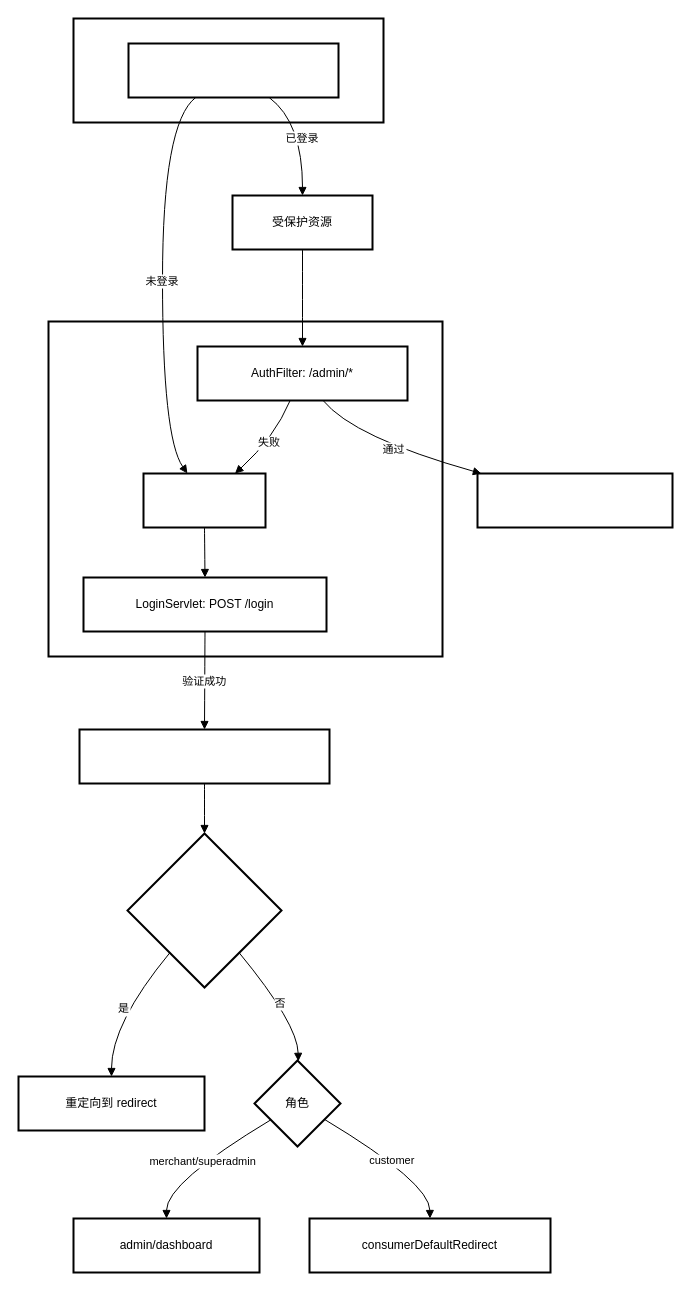
Some shapes in this 690 by 1290 pixel diagram are drawn without their labels. The centre of each missing label's shape, as x and y in pixels:
"login.jsp" goes at pixel 204 500.
"redirect 合法?" goes at pixel 204 910.
"继续访问 /admin/*" goes at pixel 574 500.
"设置 Session 和 Set-Cookie" goes at pixel 204 756.
"路由守卫 beforeEach" goes at pixel 233 70.
